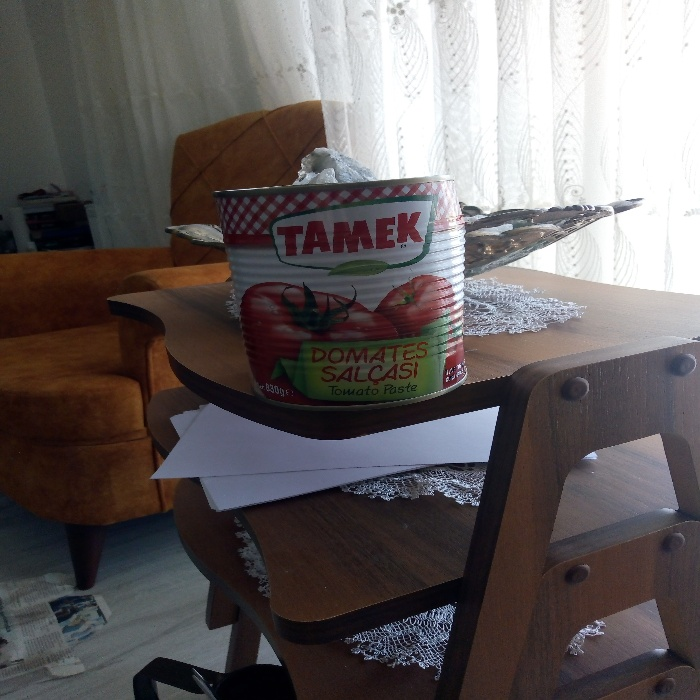salca: (221, 156, 490, 414)
